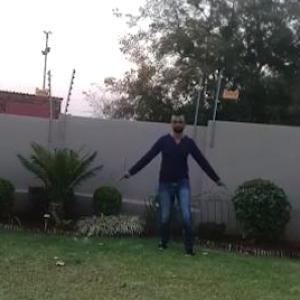land: (126, 118, 228, 254)
